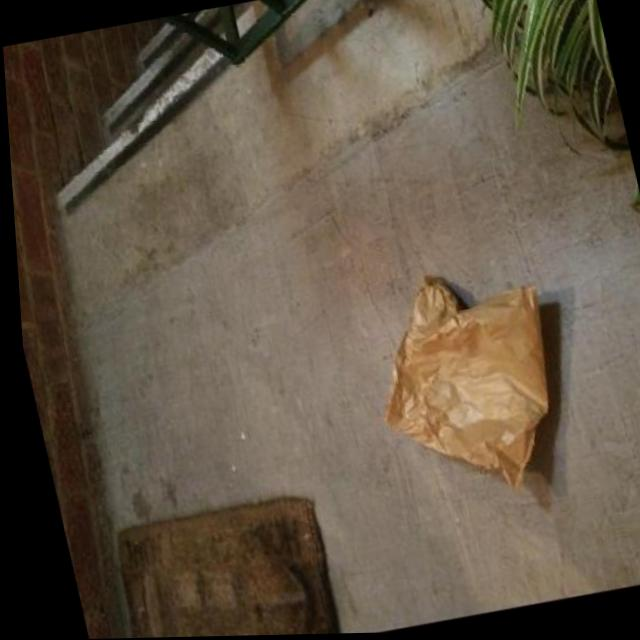paper: (352, 256, 584, 516)
